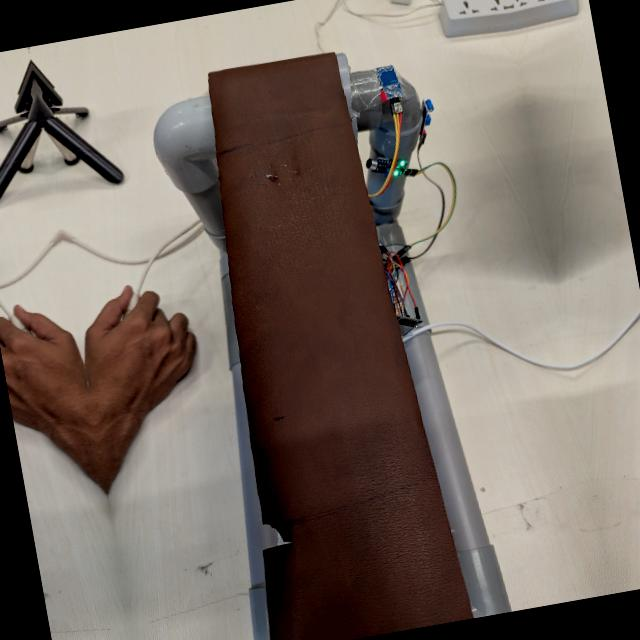belt_crack: (239, 156, 312, 197)
edge_damage: (246, 501, 292, 569)
